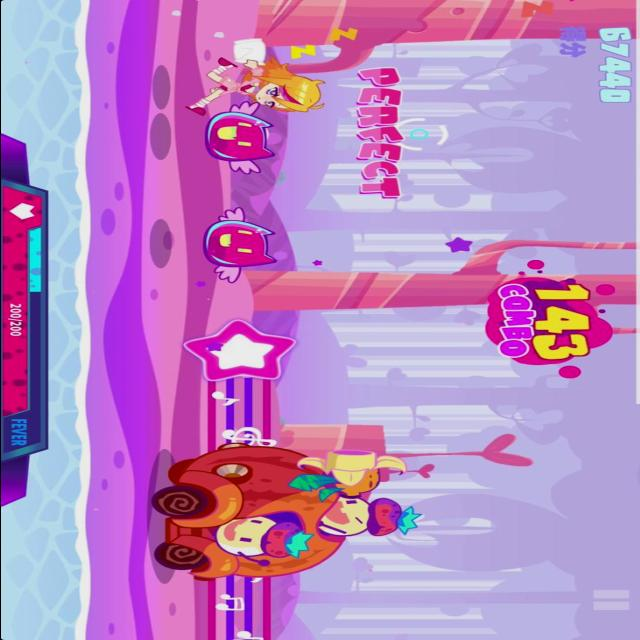cheboss: (148, 443, 408, 583)
hold: (178, 323, 292, 640)
mao: (202, 208, 278, 282), (203, 102, 274, 178)
